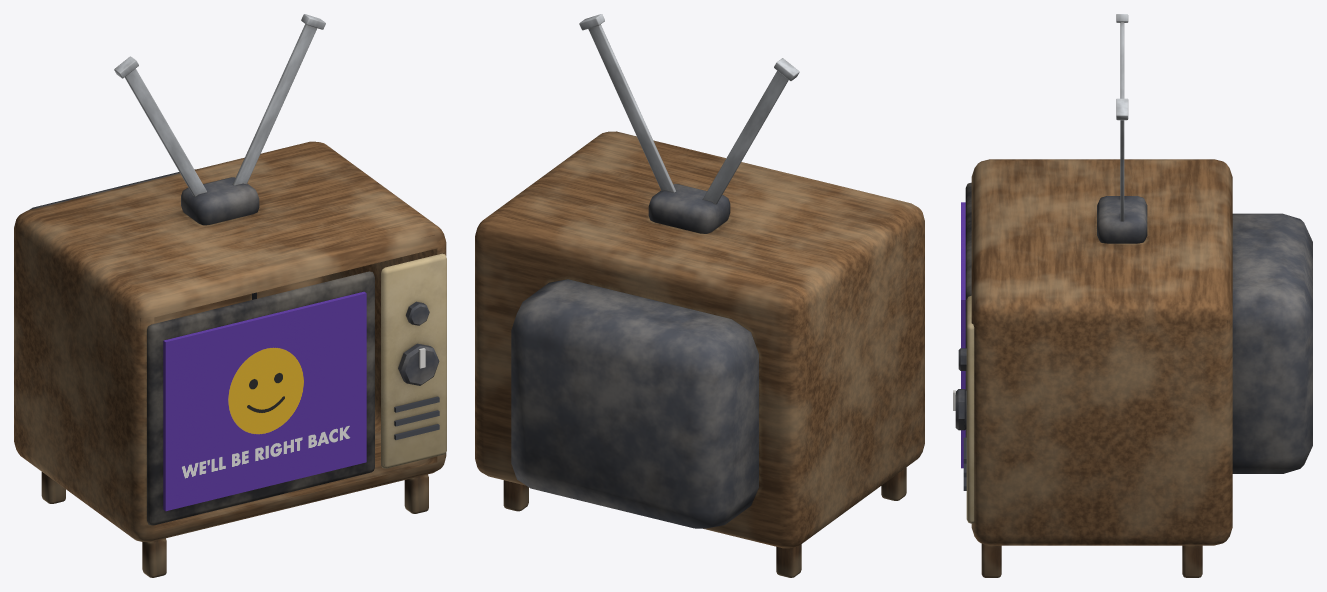
The model's file is crt_tv.fbx.
3 views of the same model, side by side, from view 1: azimuth 30°, elevation 25°; view 2: azimuth 150°, elevation 25°; view 3: azimuth 270°, elevation 25° (orthographic). The views are drawn at different scales.
Visible parts, largest first — view 1: Body, Screen, Knob; view 2: Body; view 3: Body, Screen, Knob.
Boxes of the visible parts, x1=… form: Body: x1=14, y1=14, x2=446, y2=577; Screen: x1=163, y1=291, x2=366, y2=511; Knob: x1=398, y1=343, x2=439, y2=385; Body: x1=475, y1=14, x2=924, y2=577; Body: x1=958, y1=14, x2=1312, y2=577; Screen: x1=961, y1=202, x2=965, y2=468; Knob: x1=953, y1=389, x2=966, y2=430.
Size of the model in its own units: 3.6 by 5 by 3.59.
2 materials, 2 textured.
